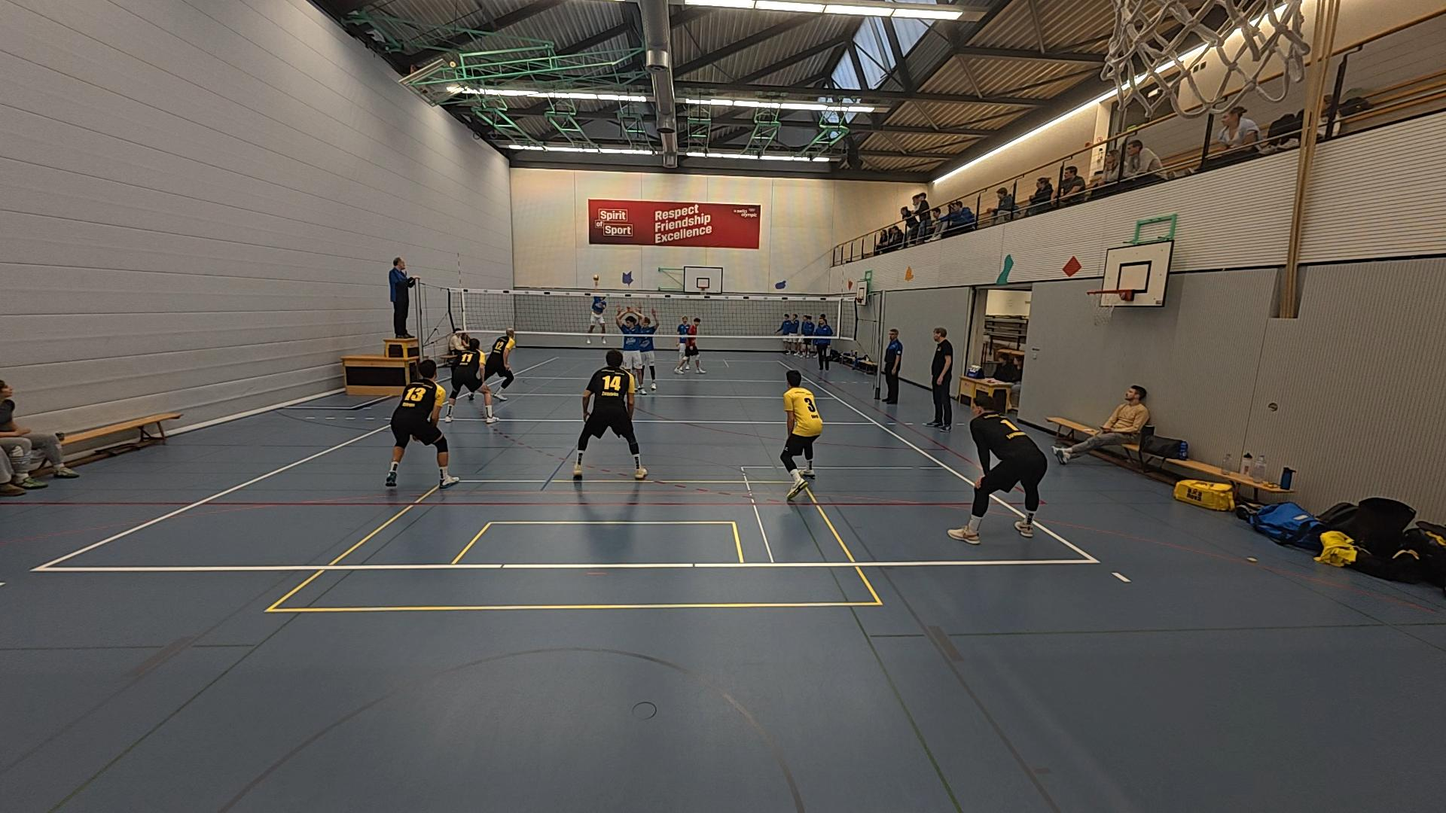Player: (947, 395, 1046, 544), (573, 349, 648, 480), (386, 361, 459, 489), (780, 370, 822, 501), (444, 331, 497, 422), (619, 306, 657, 392), (484, 329, 517, 399), (634, 301, 658, 393), (676, 316, 703, 374), (685, 314, 707, 375)
Serve: (583, 285, 613, 346)
ball: (591, 273, 603, 285)
